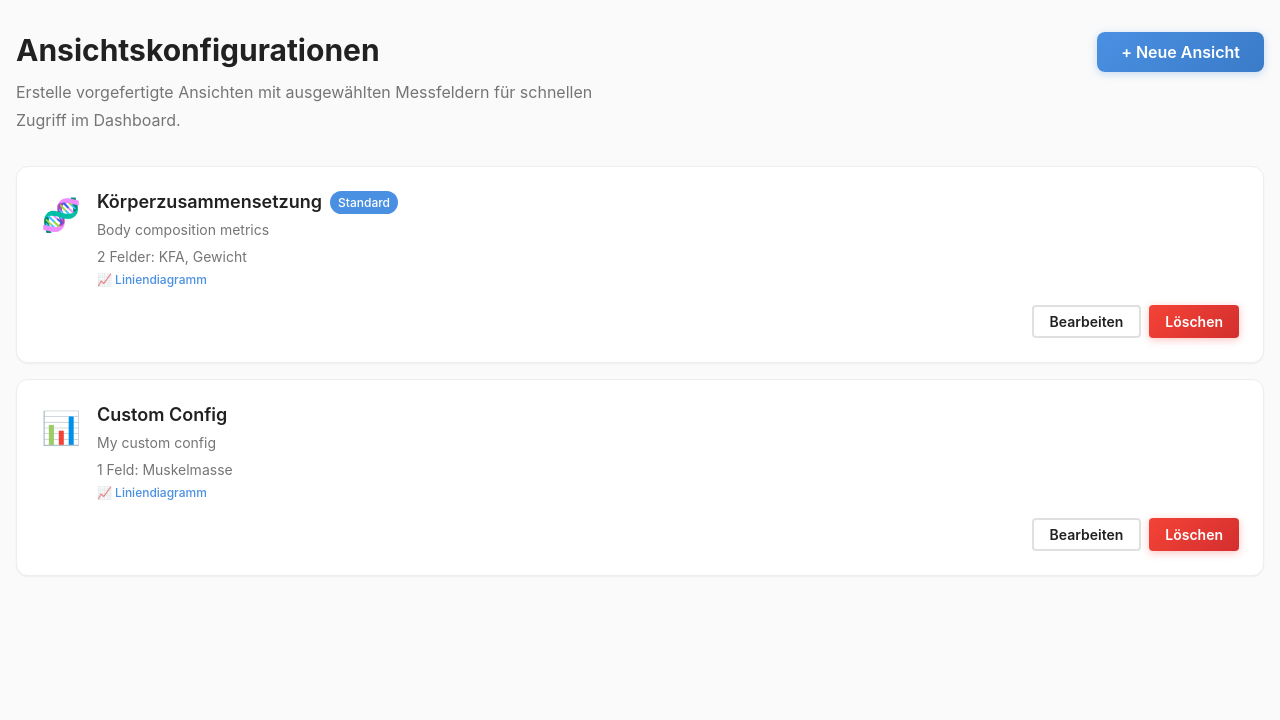
Scenario: ViewConfigsPage Component › Create View Config › should show error when submitting without fields
The width and height of the screenshot is (1280, 720).
Click the button "+ Neue Ansicht". click: (1181, 52)
box: left=1097, top=32, right=1264, bottom=72
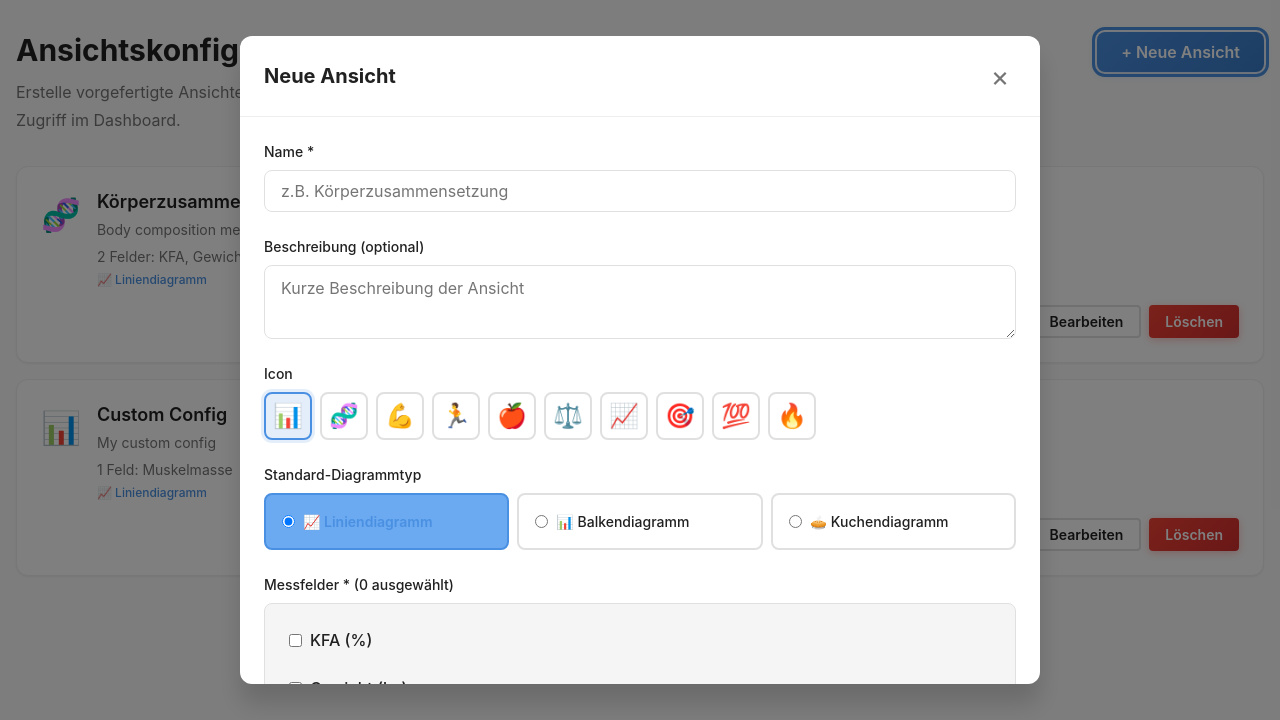
Type "Test Config" into the field labelled "Name *". click: (640, 191)
box: left=264, top=170, right=1016, bottom=212
(page scrolled)
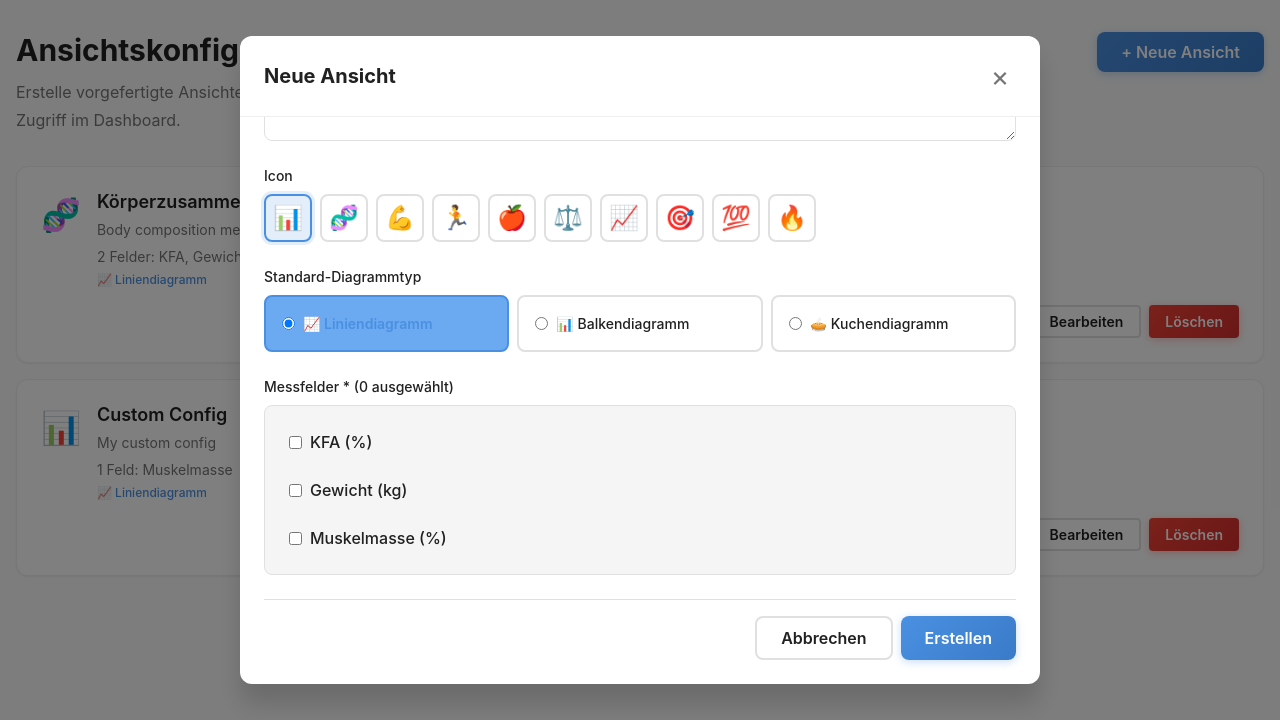
Click the button "Erstellen". click: (958, 638)
box: left=901, top=616, right=1016, bottom=660
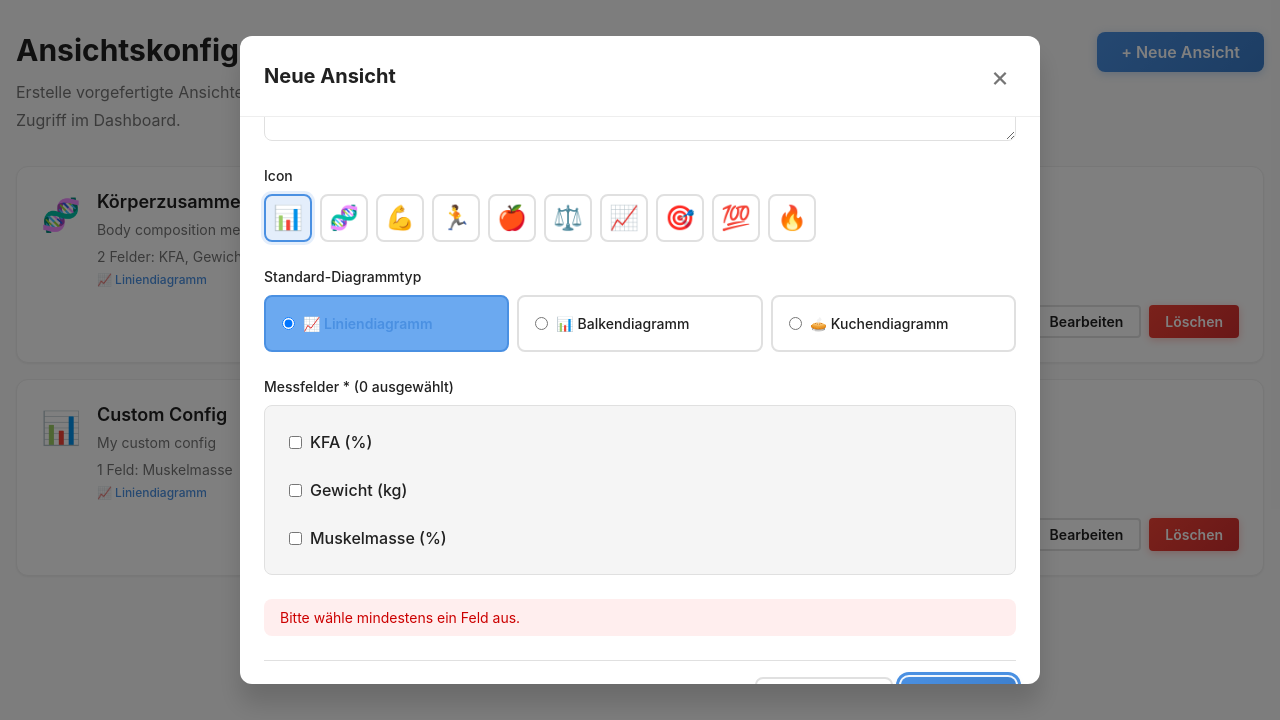
Now the text "Bitte wähle mindestens ein Feld aus." is shown, box left=264, top=599, right=1016, bottom=636
